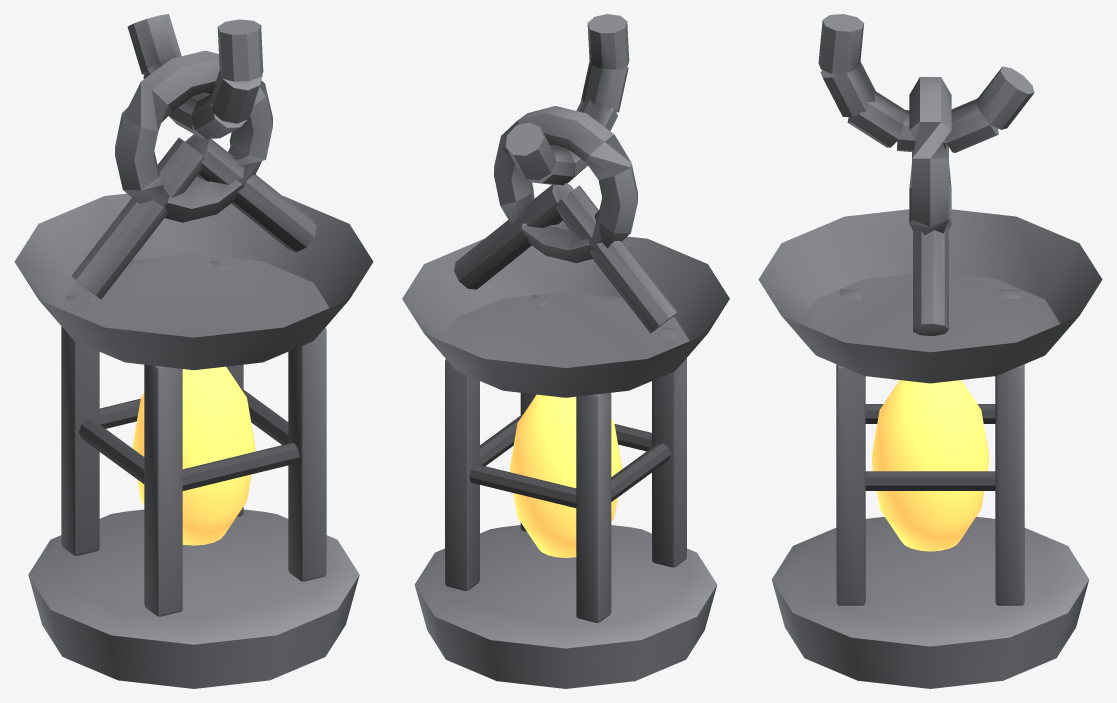
The model's file is rig_lantern.glb.
3 renders of one model, left to right at view 1: azimuth 30°, elevation 25°; view 2: azimuth 150°, elevation 25°; view 3: azimuth 270°, elevation 25°, orthographic. The views are drawn at different scales.
Visible parts, largest first — view 1: rig_lantern; view 2: rig_lantern; view 3: rig_lantern.
Part boxes in pixels (<box>): rig_lantern: <box>14,14,373,688</box>; rig_lantern: <box>402,14,729,688</box>; rig_lantern: <box>758,14,1102,688</box>.
Size of the model in its own units: 0.26 by 0.5053 by 0.26.
